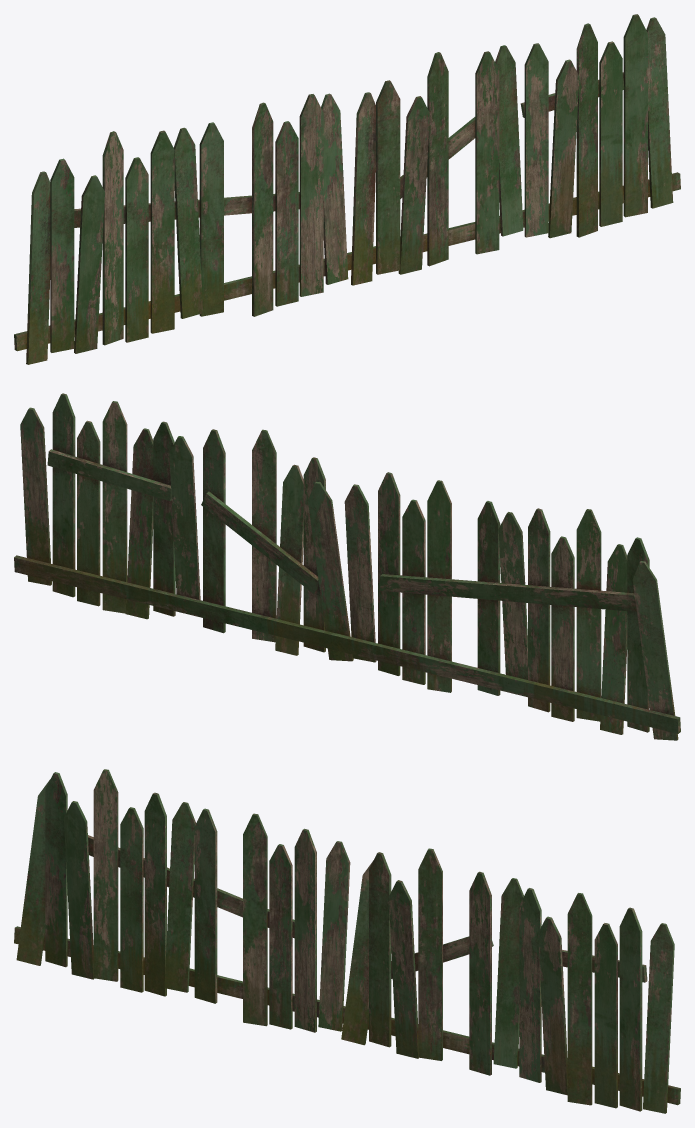
The model's file is fence.fbx.
3 views of the same model, one above another, from view 1: azimuth 30°, elevation 25°; view 2: azimuth 150°, elevation 25°; view 3: azimuth 330°, elevation 25° (orthographic).
Parts seen in each view (by area): view 1: Box006; view 2: Box006; view 3: Box006.
Boxes of the visible parts, left/top/right/bottom form: Box006: left=14, top=14, right=680, bottom=364; Box006: left=14, top=393, right=680, bottom=740; Box006: left=14, top=769, right=680, bottom=1113.
Bounding box in the file's own units: 460 × 144 × 20.4.
Materials: 1 (1 with a texture image).
